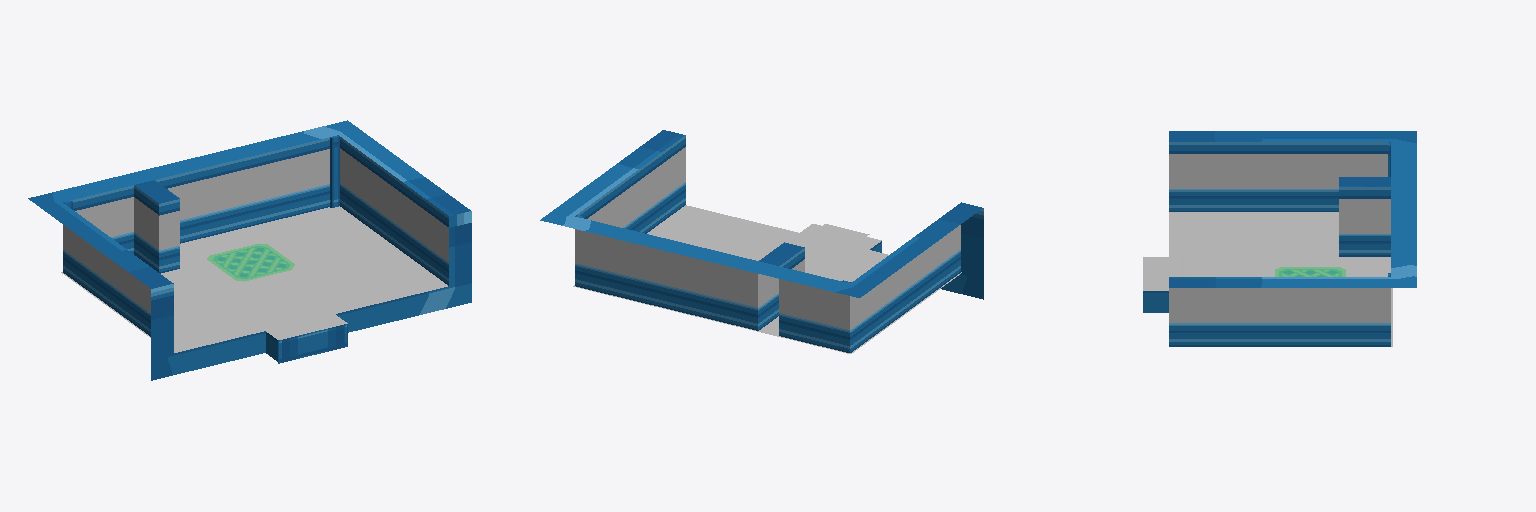
3 views of the same model, side by side, from view 1: azimuth 30°, elevation 25°; view 2: azimuth 150°, elevation 25°; view 3: azimuth 270°, elevation 25° (orthographic).
Visible parts, largest first — view 1: polygon1, polygon4, polygon2, polygon3, polygon6, polygon0; view 2: polygon3, polygon2, polygon4, polygon1, polygon0; view 3: polygon3, polygon2, polygon1, polygon4, polygon6, polygon0.
Boxes of the visible parts, x1,y1,x2,y2 form: polygon1: [61, 206, 447, 352]; polygon4: [28, 120, 471, 380]; polygon2: [63, 137, 471, 336]; polygon3: [63, 148, 448, 312]; polygon6: [207, 243, 294, 281]; polygon0: [279, 314, 334, 333]; polygon3: [575, 147, 960, 329]; polygon2: [575, 135, 983, 352]; polygon4: [540, 130, 983, 299]; polygon1: [573, 205, 961, 353]; polygon0: [813, 224, 869, 243]; polygon3: [1169, 154, 1390, 322]; polygon2: [1169, 142, 1390, 346]; polygon1: [1143, 212, 1392, 346]; polygon4: [1143, 131, 1416, 312]; polygon6: [1275, 267, 1345, 276]; polygon0: [1143, 260, 1168, 281].
Bounding box in the file's own units: 3.59 × 1 × 2.66.
7 materials, 3 textured.